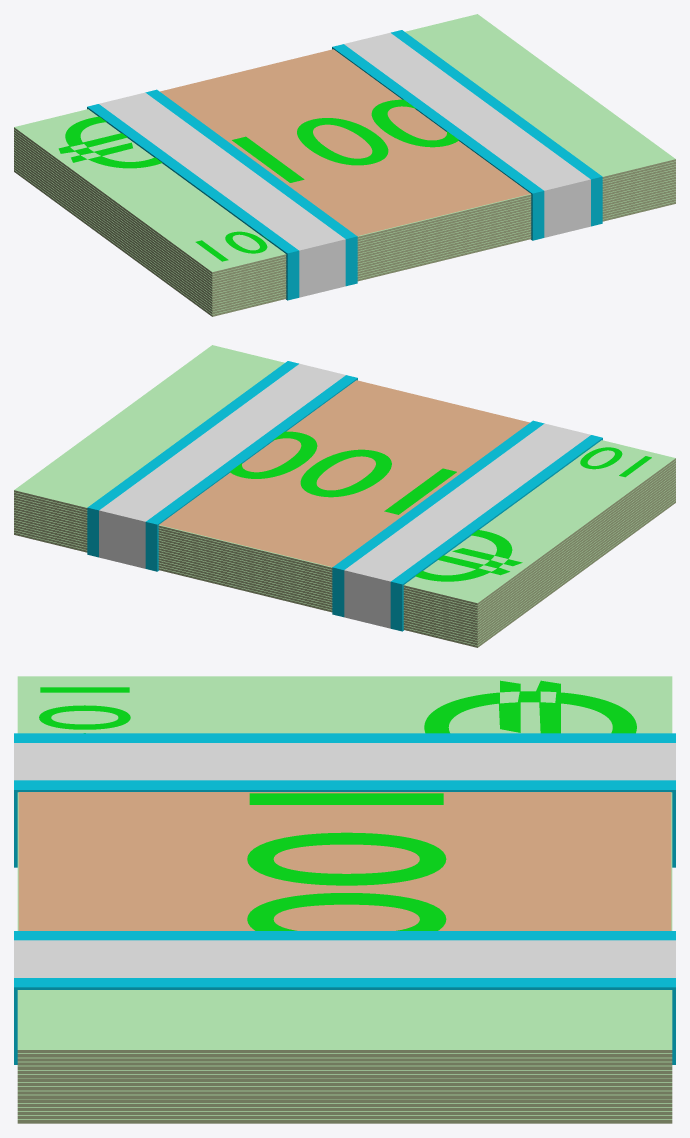
Rendered from Cash.fbx.
The picture shows the model from 3 angles, top to bottom: view 1: azimuth 30°, elevation 25°; view 2: azimuth 150°, elevation 25°; view 3: azimuth 270°, elevation 25°; orthographic projection. The views are drawn at different scales.
Parts seen in each view (by area): view 1: Banknot, Paski, Plane, Value, $, Value.001; view 2: Banknot, Paski, Plane, Value, $, Value.001; view 3: Banknot, Plane, Paski, Value, $, Value.001.
Part boxes in pixels (bbox=[...]): Banknot: bbox=[14, 14, 675, 316]; Paski: bbox=[87, 30, 602, 300]; Plane: bbox=[160, 49, 530, 235]; Value: bbox=[232, 99, 458, 182]; $: bbox=[58, 116, 162, 168]; Value.001: bbox=[195, 231, 268, 261]; Banknot: bbox=[14, 345, 675, 647]; Paski: bbox=[87, 361, 602, 631]; Plane: bbox=[159, 380, 529, 566]; Value: bbox=[230, 431, 456, 514]; $: bbox=[415, 530, 522, 581]; Value.001: bbox=[578, 447, 651, 477]; Banknot: bbox=[17, 676, 672, 1123]; Plane: bbox=[18, 792, 671, 930]; Paski: bbox=[14, 733, 675, 1064]; Value: bbox=[247, 793, 446, 930]; $: bbox=[424, 680, 636, 733]; Value.001: bbox=[39, 687, 130, 733].
Bounding box in the file's own units: 56.4 × 5.48 × 42.24.
